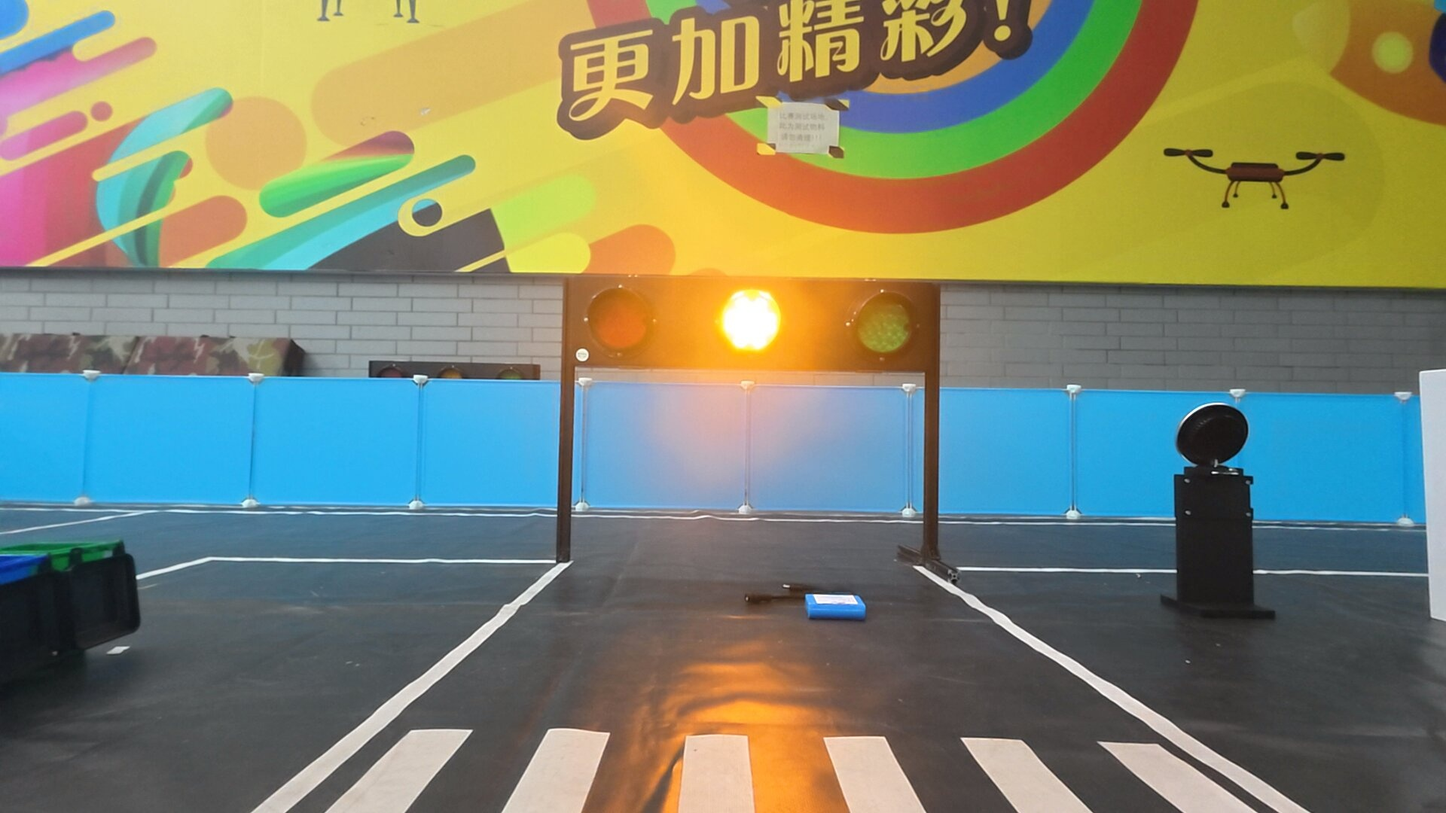stop: (715, 286, 786, 354)
